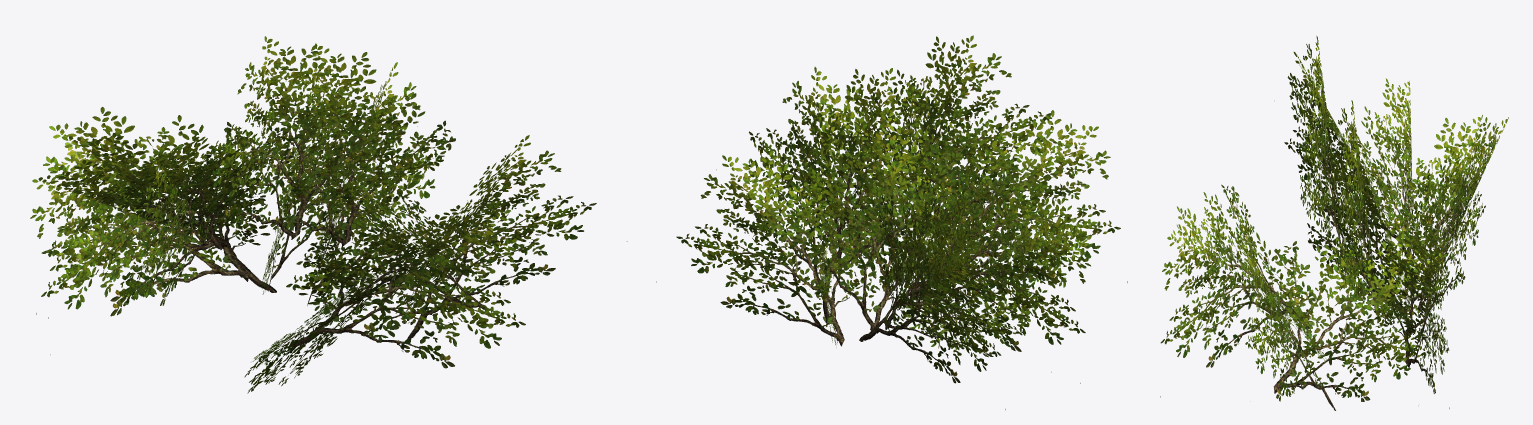
The model's file is SC001Jzhiwu_04.FBX.
3 views of the same model, side by side, from view 1: azimuth 30°, elevation 25°; view 2: azimuth 150°, elevation 25°; view 3: azimuth 270°, elevation 25° (orthographic). The views are drawn at different scales.
Visible parts, largest first — view 1: SC001Jzhiwu_04; view 2: SC001Jzhiwu_04; view 3: SC001Jzhiwu_04.
Part boxes in pixels (x1,y1,x2,y2): SC001Jzhiwu_04: [30, 36, 627, 393]; SC001Jzhiwu_04: [656, 35, 1127, 409]; SC001Jzhiwu_04: [1160, 36, 1508, 410].
Bounding box in the file's own units: 6.66 × 5.07 × 4.54.
